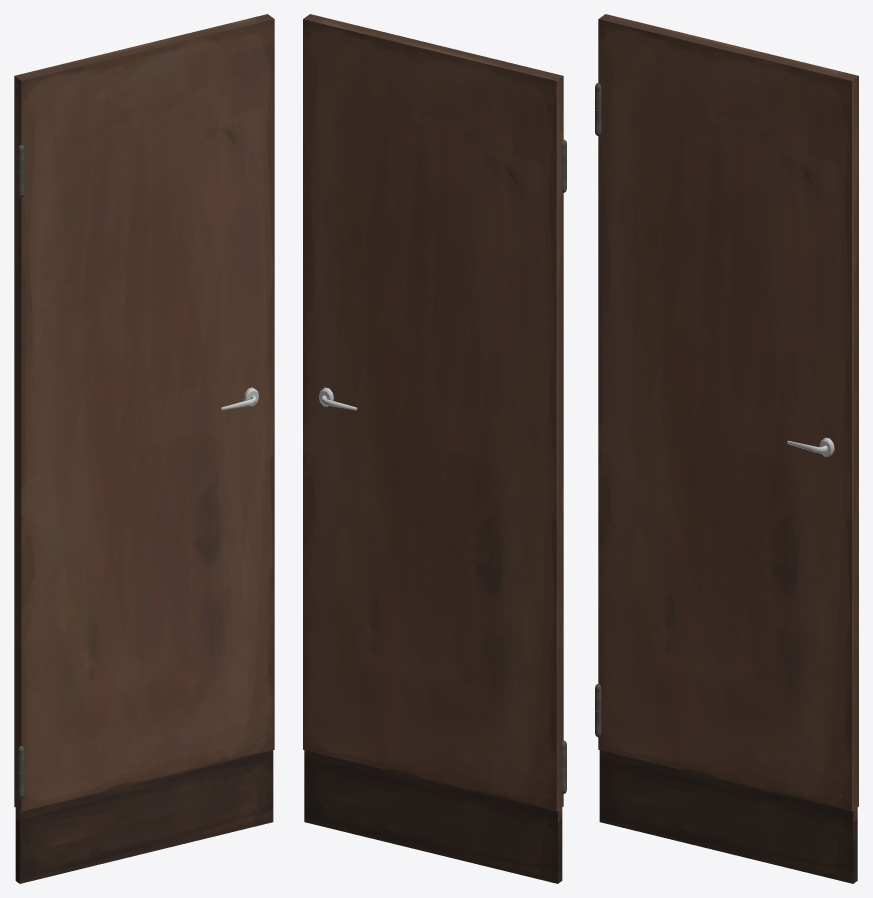
Rendered from Puerta_H2.obj.
3 views of the same model, side by side, from view 1: azimuth 30°, elevation 25°; view 2: azimuth 150°, elevation 25°; view 3: azimuth 330°, elevation 25° (orthographic).
Parts seen in each view (by area): view 1: Puerta_H2; view 2: Puerta_H2; view 3: Puerta_H2.
Boxes of the visible parts, x1,y1,x2,y2 form: Puerta_H2: [14, 14, 274, 883]; Puerta_H2: [303, 14, 566, 883]; Puerta_H2: [595, 14, 858, 883].
Size of the model in its own units: 0.5517 by 1.65 by 0.0761.
2 materials, 1 textured.
